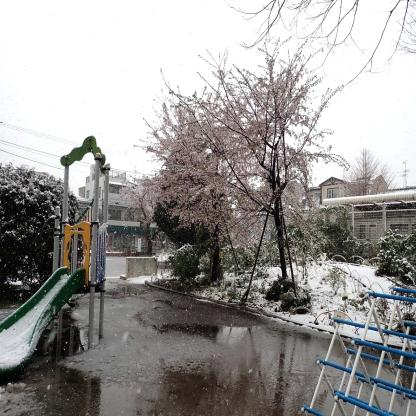Someiyoshino: (137, 51, 334, 240)
